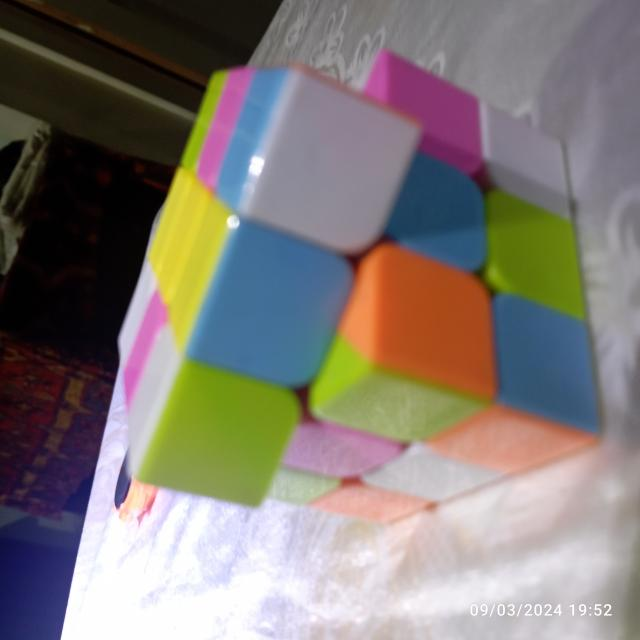Rub: (109, 41, 606, 532)
